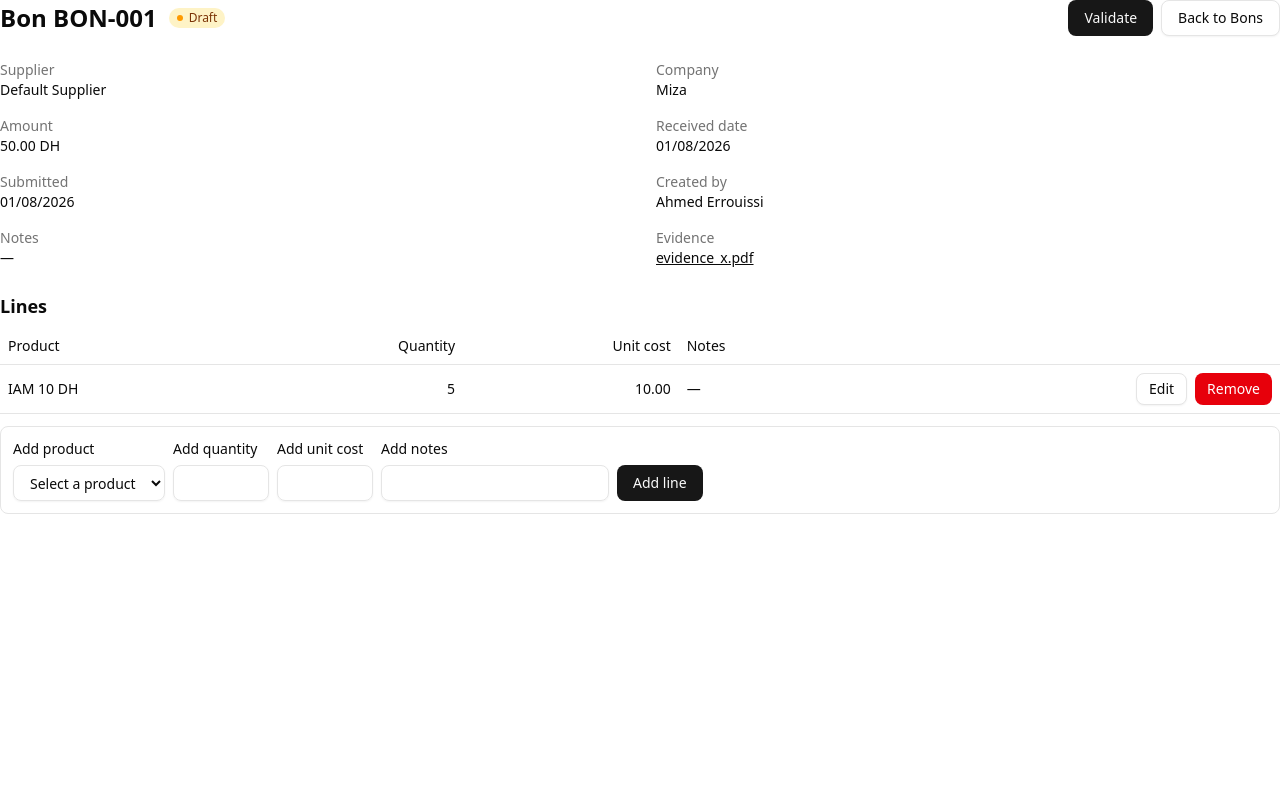
Test: Validate — freshness rule (M4 · G4 closure) and error codes › closes the dialog and refetches as Validated on success
The width and height of the screenshot is (1280, 800).
Click the button "Validate" at coordinates (1111, 18), box [1068,0,1153,36]
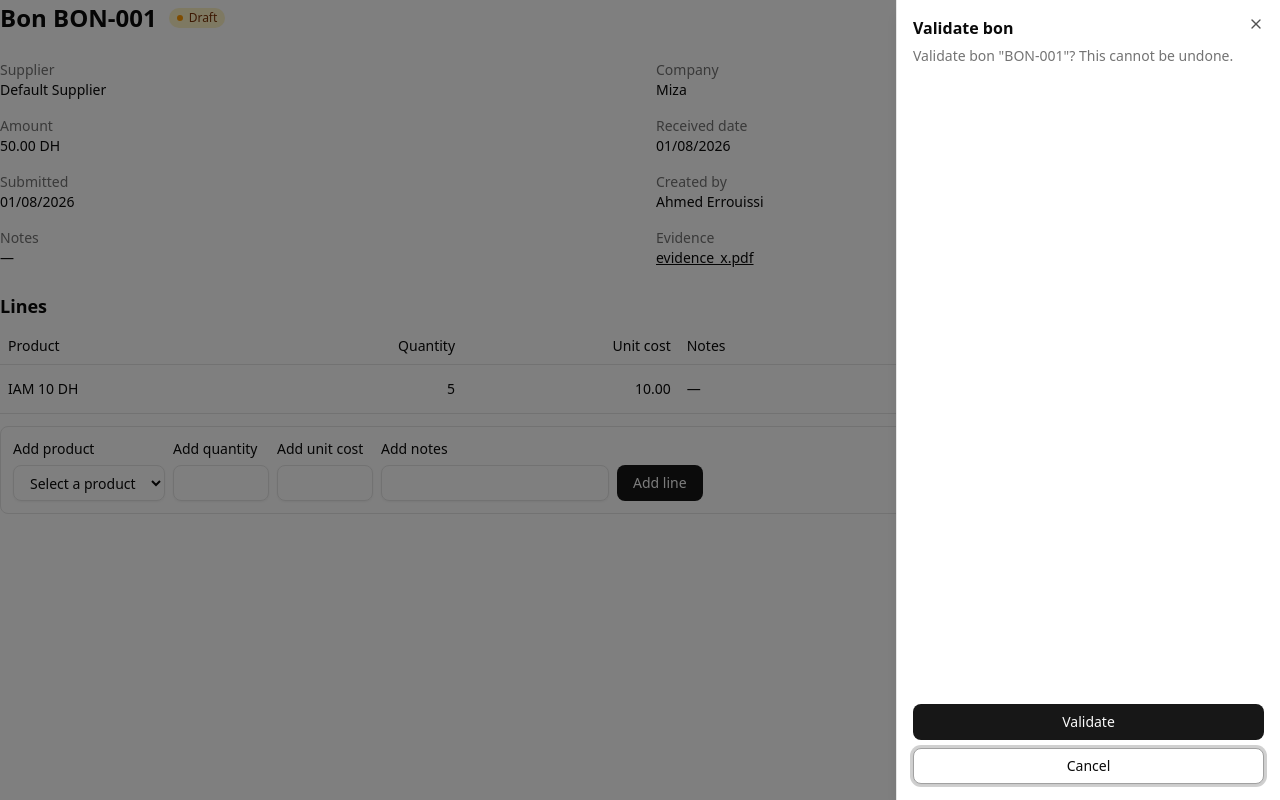
Expected: the button "Validate" is enabled
Click the button "Validate" at coordinates (1088, 722), box [913,704,1264,740]
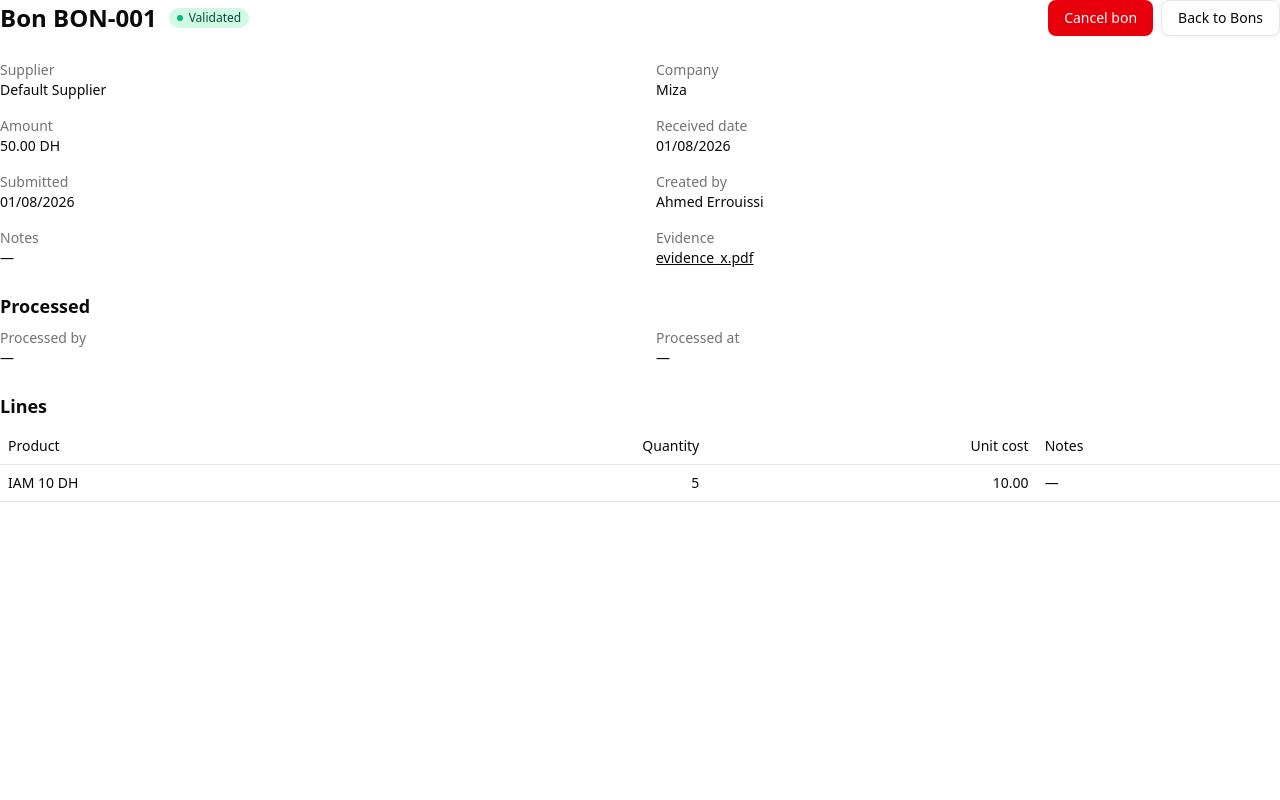
Expected: the dialog is gone
